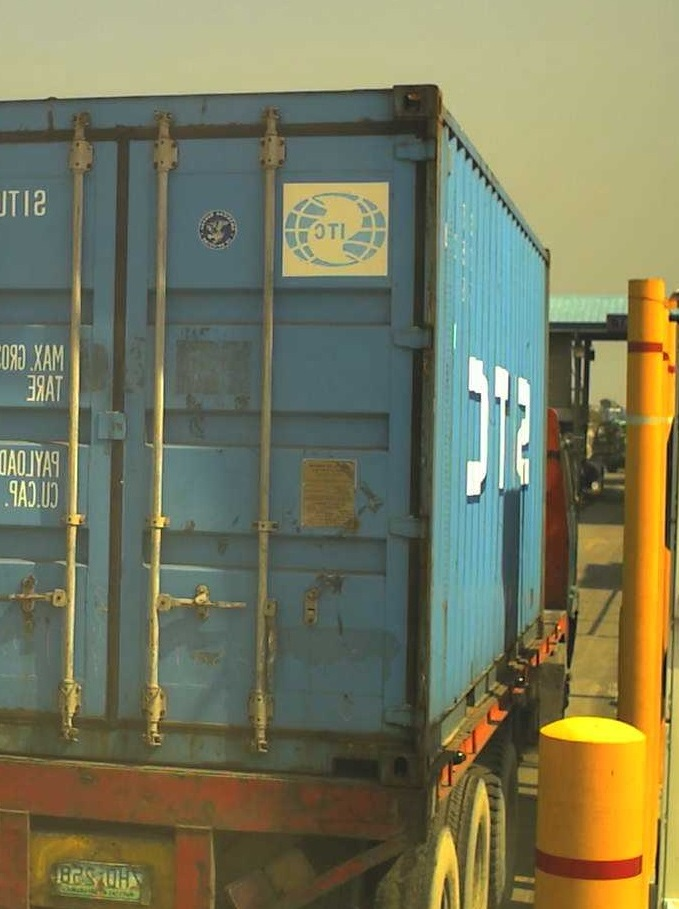container_door: (1, 85, 434, 787)
